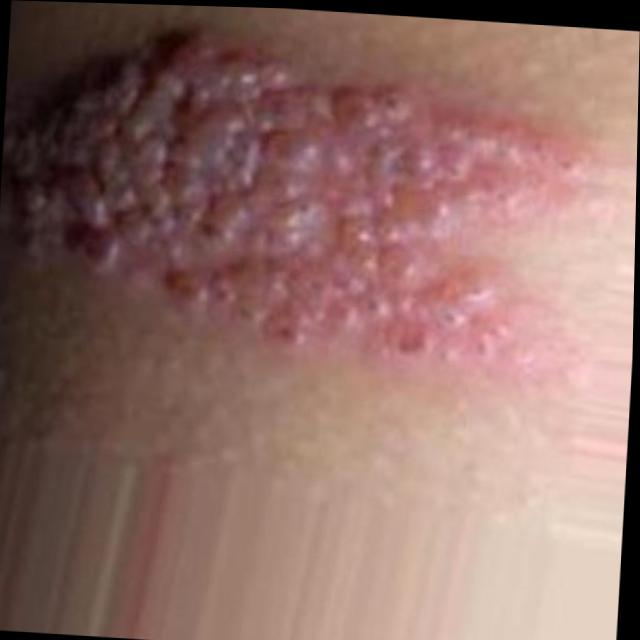Shingles: (0, 10, 623, 377)
